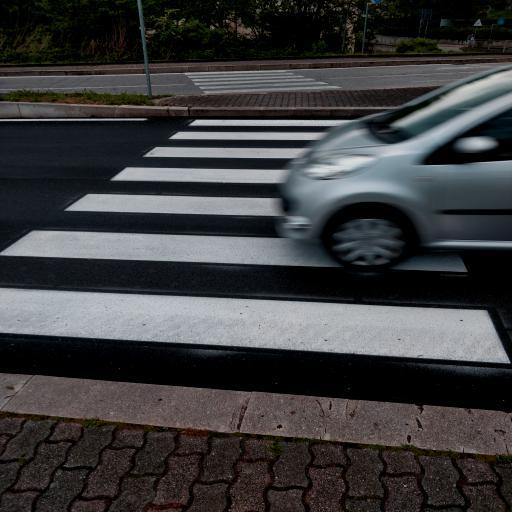crosswalk: (0, 228, 512, 376), (159, 116, 352, 142)
